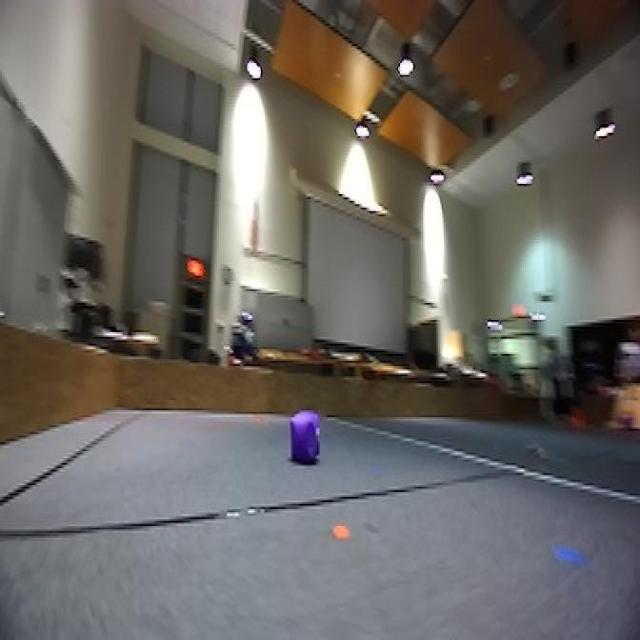frc_cube: (289, 412, 323, 468)
